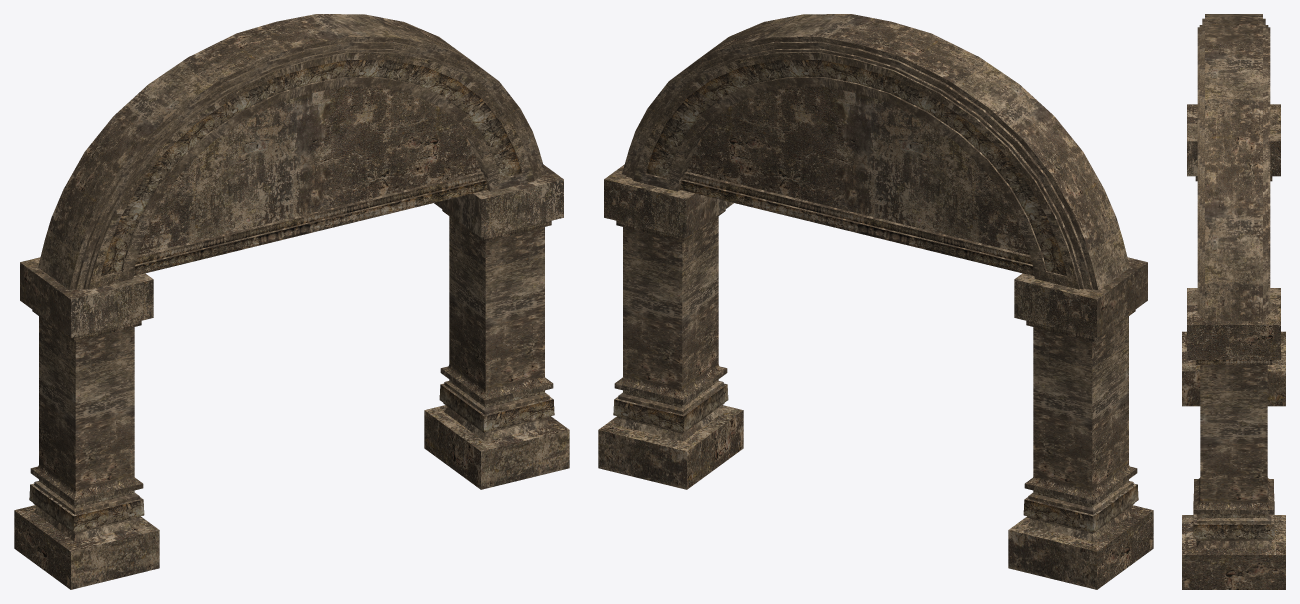
Rendered from materials_5_gate_4.fbx.
3 views of the same model, side by side, from view 1: azimuth 30°, elevation 25°; view 2: azimuth 150°, elevation 25°; view 3: azimuth 270°, elevation 25° (orthographic). The views are drawn at different scales.
Visible parts, largest first — view 1: materials_5_gate_4; view 2: materials_5_gate_4; view 3: materials_5_gate_4.
Boxes of the visible parts, bbox=[...] form: materials_5_gate_4: bbox=[14, 14, 569, 589]; materials_5_gate_4: bbox=[598, 14, 1153, 589]; materials_5_gate_4: bbox=[1182, 14, 1285, 589].
Bounding box in the file's own units: 539 × 491 × 106.
